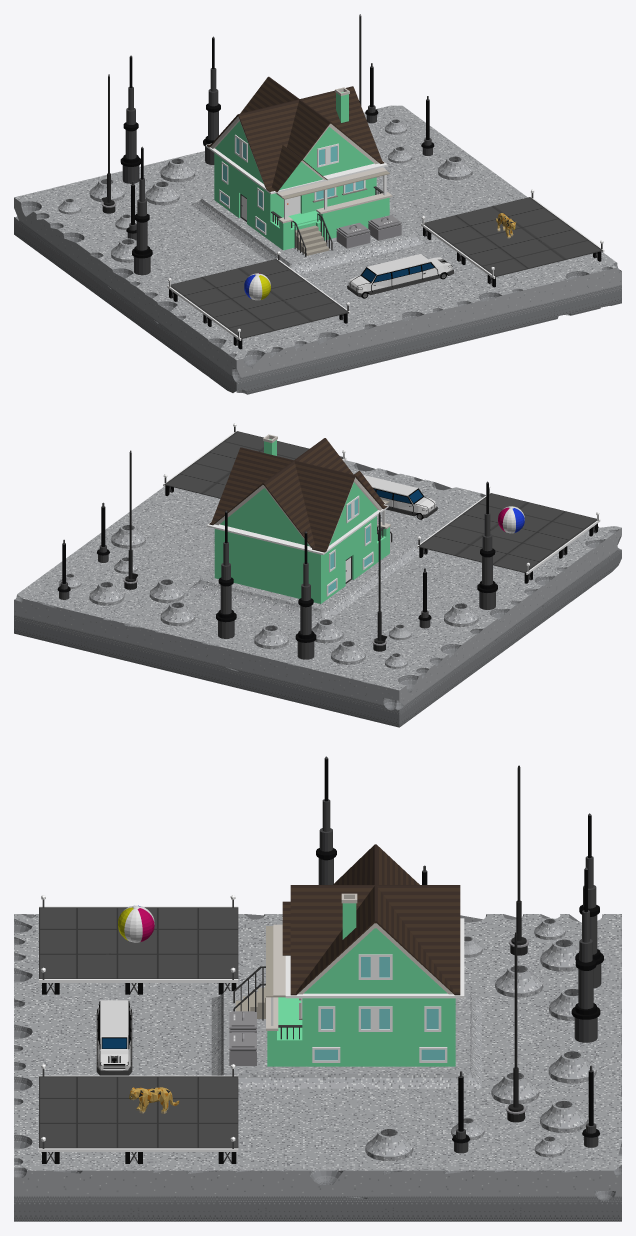
The picture shows the model from 3 angles, top to bottom: view 1: azimuth 30°, elevation 25°; view 2: azimuth 150°, elevation 25°; view 3: azimuth 270°, elevation 25°; orthographic projection. The views are drawn at different scales.
Parts seen in each view (by area): view 1: Cube.027, Cube.352, Cube.026, Cube.025, Cube.028, VEHICLES_LIMOUSINE, Cylinder.020, Cylinder.021, Cylinder.017, Cube.029, Cube.030, Cylinder.027 (+4 smaller); view 2: Cube.027, Cube.352, Cube.025, Cube.028, Cube.026, VEHICLES_LIMOUSINE, Cylinder.020, Cylinder.021, Cylinder.017, Cylinder.031, Cylinder.028, Cylinder.029 (+8 smaller); view 3: Cube.027, Cube.352, Cube.026, Cube.025, Cube.028, VEHICLES_LIMOUSINE, Cylinder.017, Cylinder.020, Cylinder.021, Cylinder.033, Cylinder.031, Cylinder.029 (+11 smaller).
Boxes of the visible parts, x1,y1,x2,y2 form: Cube.027: [14, 105, 621, 394]; Cube.352: [205, 76, 392, 256]; Cube.026: [421, 189, 604, 287]; Cube.025: [167, 251, 350, 349]; Cube.028: [191, 195, 424, 274]; VEHICLES_LIMOUSINE: [347, 254, 453, 298]; Cylinder.020: [120, 55, 140, 183]; Cylinder.021: [132, 146, 152, 275]; Cylinder.017: [203, 36, 220, 164]; Cube.029: [336, 222, 370, 248]; Cube.030: [368, 215, 401, 240]; Cylinder.027: [160, 158, 195, 182]; Cube.027: [14, 460, 621, 727]; Cube.352: [206, 434, 392, 603]; Cube.025: [417, 485, 600, 583]; Cube.028: [190, 538, 419, 620]; Cube.026: [163, 423, 346, 498]; VEHICLES_LIMOUSINE: [363, 475, 437, 519]; Cylinder.020: [295, 531, 316, 659]; Cylinder.021: [477, 481, 497, 609]; Cylinder.017: [216, 510, 236, 638]; Cylinder.031: [89, 581, 124, 605]; Cylinder.028: [331, 640, 365, 664]; Cylinder.029: [160, 601, 195, 626]; Cube.027: [14, 914, 621, 1221]; Cube.352: [233, 844, 464, 1066]; Cube.026: [39, 1064, 238, 1163]; Cube.025: [39, 895, 238, 994]; Cube.028: [211, 991, 481, 1088]; VEHICLES_LIMOUSINE: [96, 1000, 132, 1075]; Cylinder.017: [571, 867, 600, 1042]; Cylinder.020: [575, 813, 603, 988]; Cylinder.021: [316, 756, 336, 884]; Cylinder.033: [365, 1128, 413, 1160]; Cylinder.031: [540, 1100, 587, 1132]; Cylinder.029: [548, 1050, 596, 1083].
Bounding box in the file's own units: 4000 × 1807 × 4000.
Materials: 38 (4 with a texture image).
